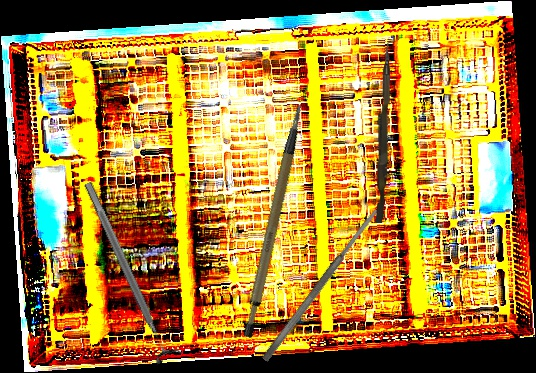Fixation Ring: (74, 176, 184, 366)
Pusher: (375, 42, 391, 224)
Scalpel Handle: (212, 101, 340, 340)
Spatula Surgical: (260, 207, 381, 363)
